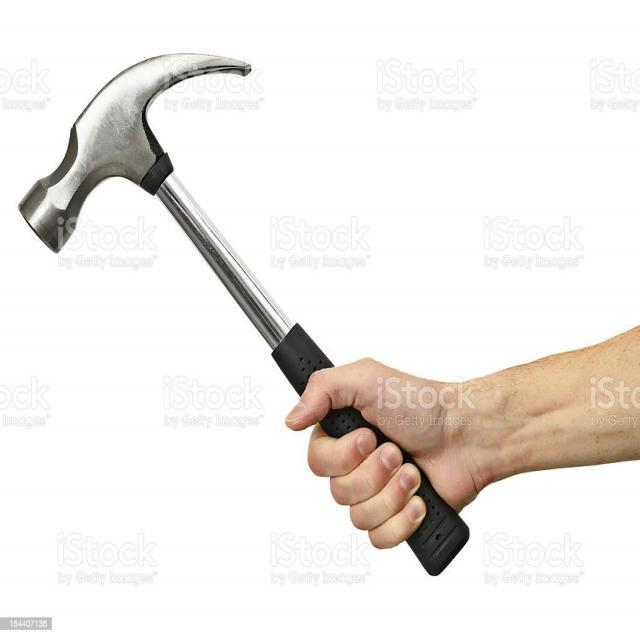hammer: (14, 40, 472, 582)
